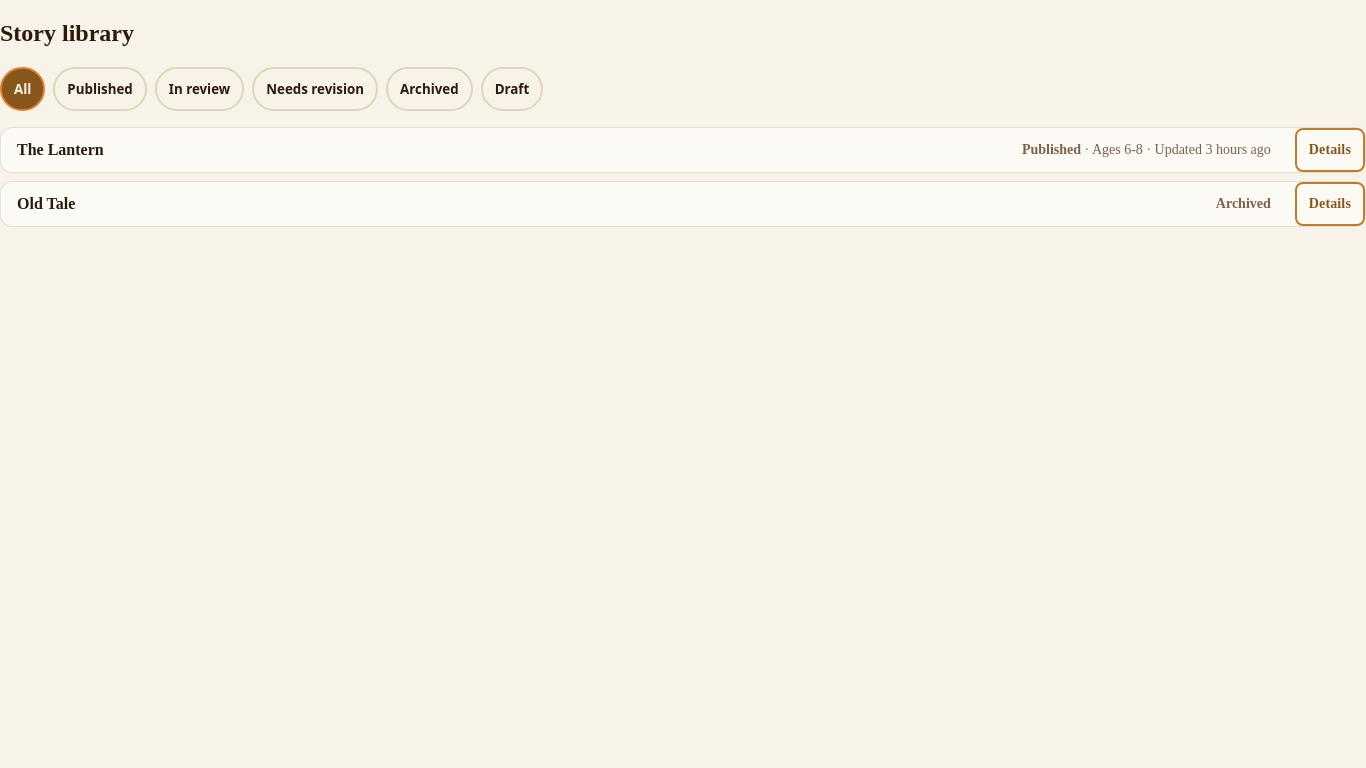
Test: AdminLibraryPage › opens a book-details dialog with themes and content flags, no moderation row
The width and height of the screenshot is (1366, 768).
Click the button with aria-label "View details for The Lantern" at {"x": 1330, "y": 150}, box 1295,128 -> 1365,172
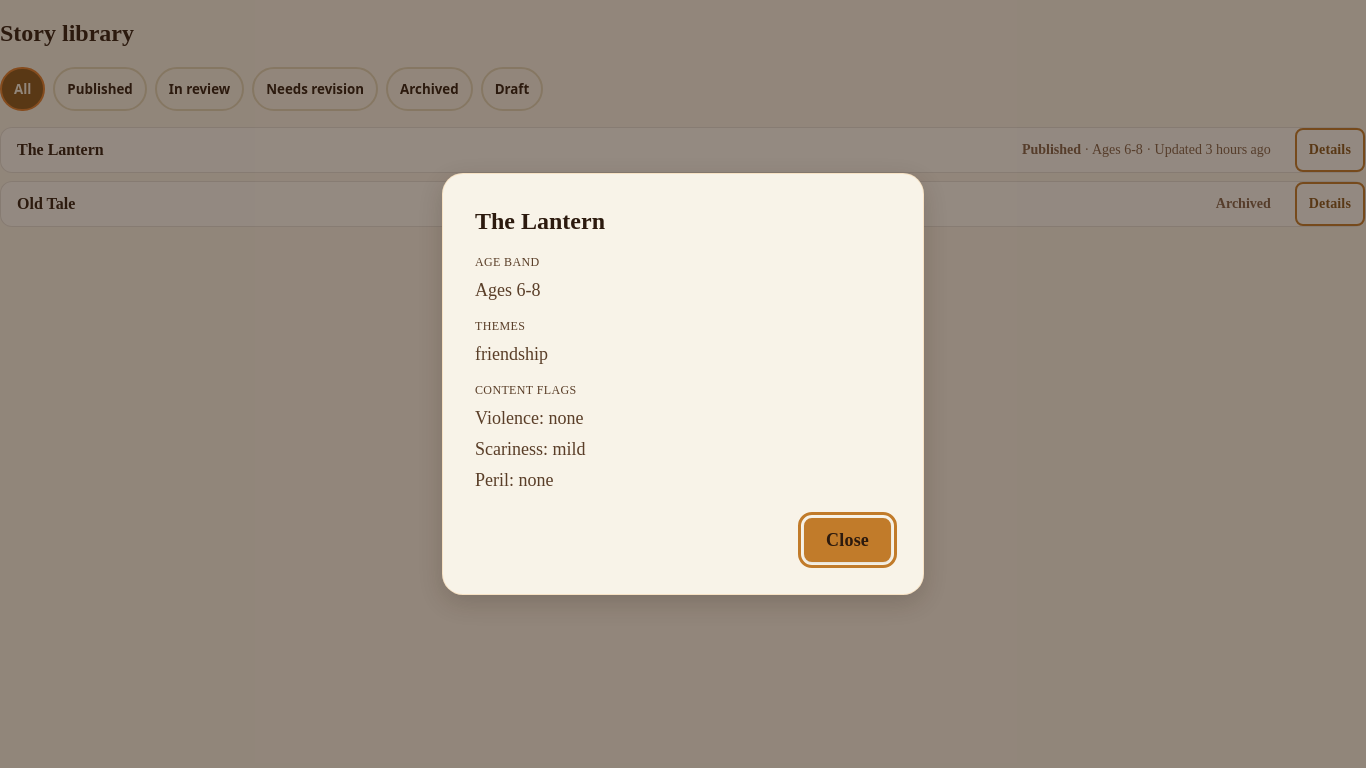
Now the text "Ages 6-8" is shown, box 475,280 -> 540,300
Now the text "friendship" is shown, box 475,344 -> 548,364
Now the list item "Scariness: mild" is shown, box 475,439 -> 586,459
Click the button "Close" at {"x": 848, "y": 540}, box 804,518 -> 891,562
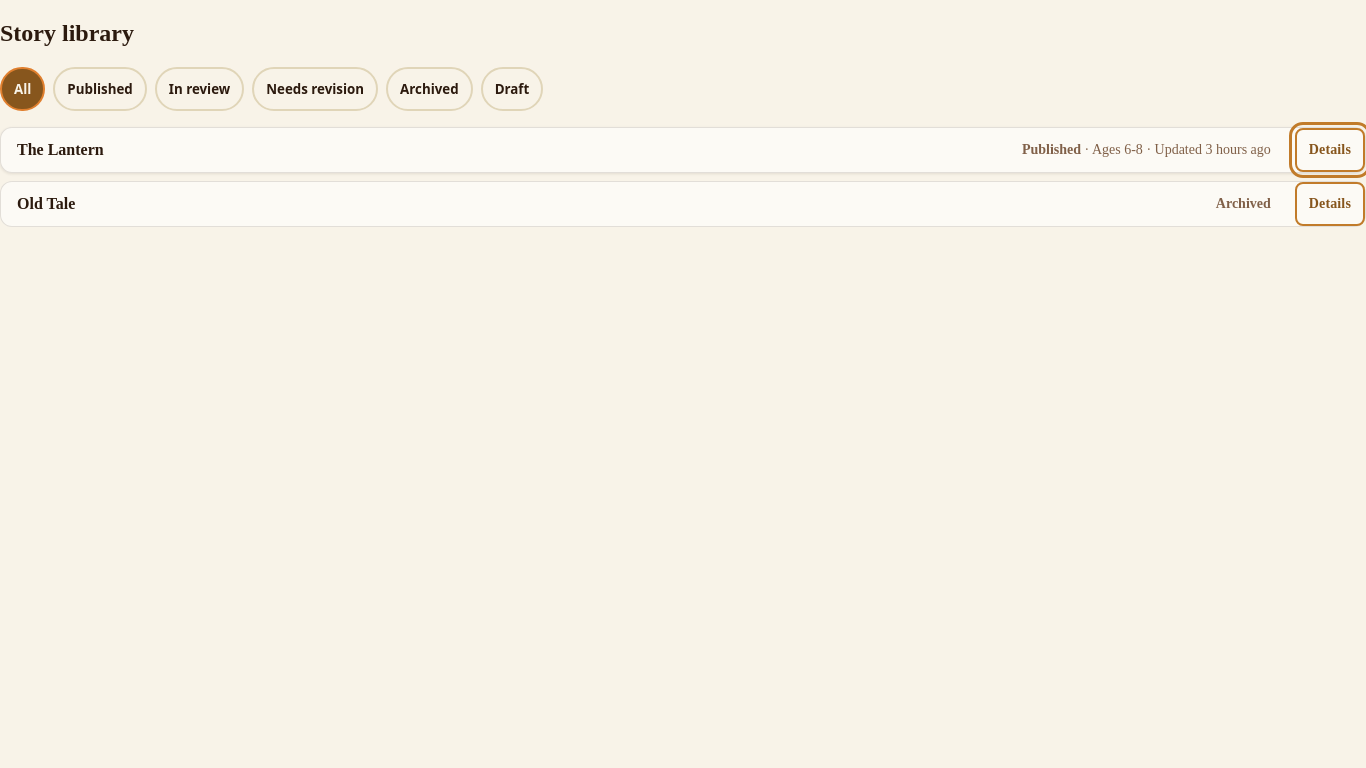
Now the dialog is gone
